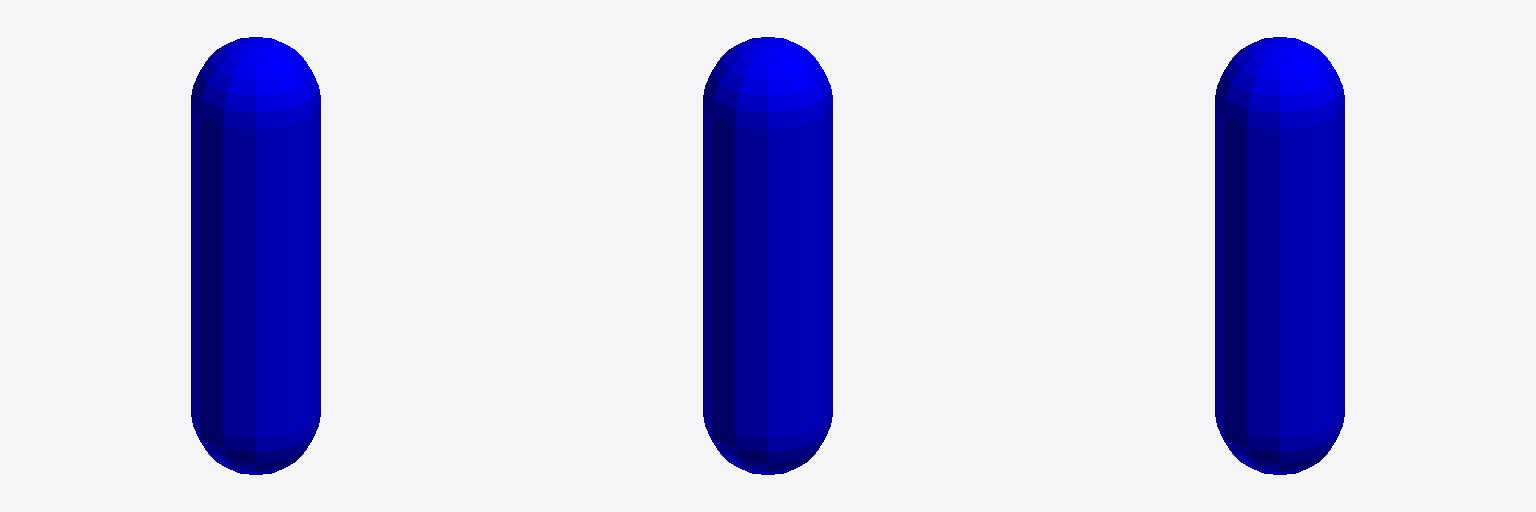
File: Web3D_Blue_null.obj
3 views of the same model, side by side, from view 1: azimuth 30°, elevation 25°; view 2: azimuth 150°, elevation 25°; view 3: azimuth 270°, elevation 25° (orthographic).
Parts seen in each view (by area): view 1: Blue_null; view 2: Blue_null; view 3: Blue_null.
Part boxes in pixels (bbox=[...]): Blue_null: bbox=[191, 37, 320, 474]; Blue_null: bbox=[703, 37, 832, 474]; Blue_null: bbox=[1215, 37, 1344, 474].
Size of the model in its own units: 50 by 180 by 50.